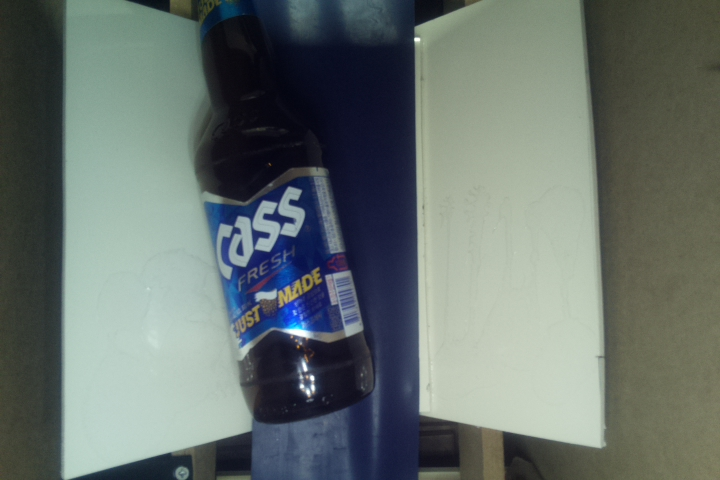makju: (187, 1, 375, 424)
